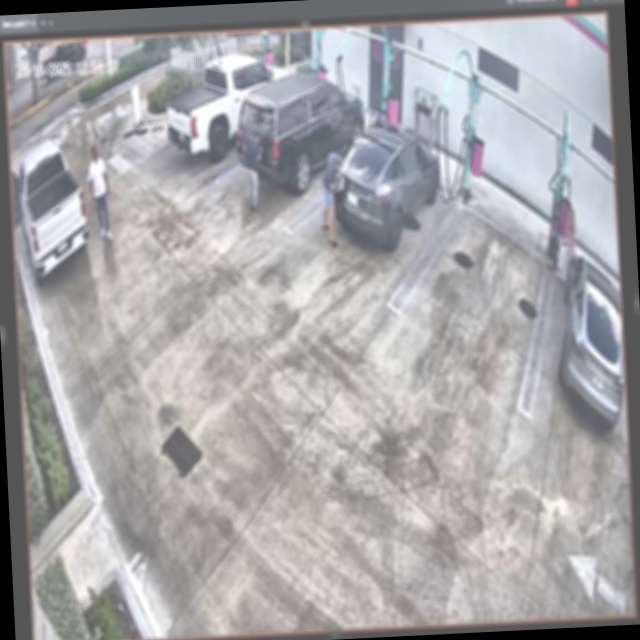Car: (329, 120, 444, 254), (236, 85, 368, 199), (164, 50, 293, 158)
